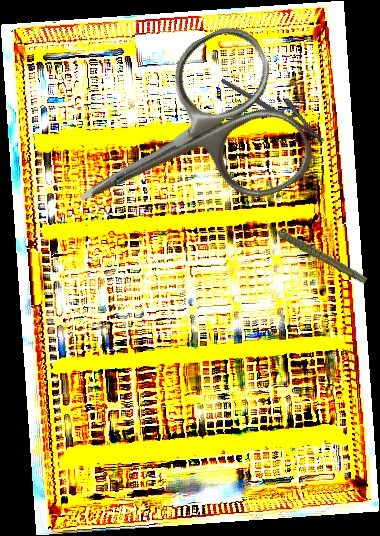Handpiece: (263, 200, 369, 302)
Iris Scissors: (40, 16, 323, 273)
Needle Holder: (219, 63, 335, 145)
